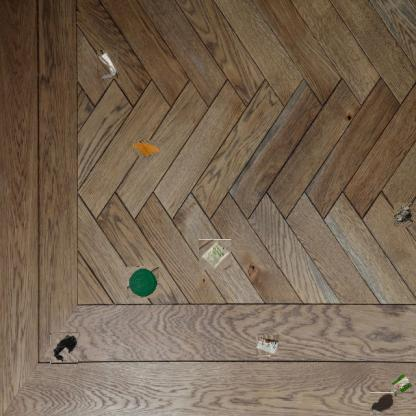dirty: (127, 266, 159, 298), (200, 239, 231, 270), (51, 332, 78, 364), (96, 50, 118, 80), (392, 372, 416, 398), (392, 204, 414, 226), (256, 334, 278, 356)
liquid: (370, 392, 394, 415), (133, 140, 159, 156)
